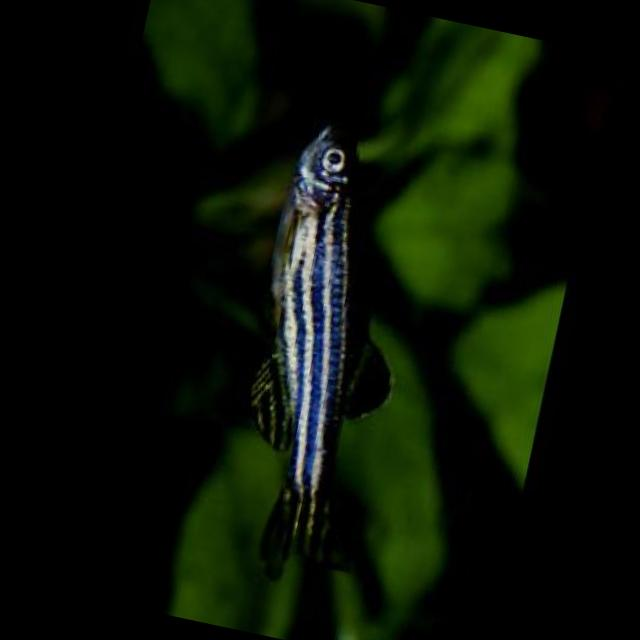ZebraFish: (200, 116, 449, 602)
